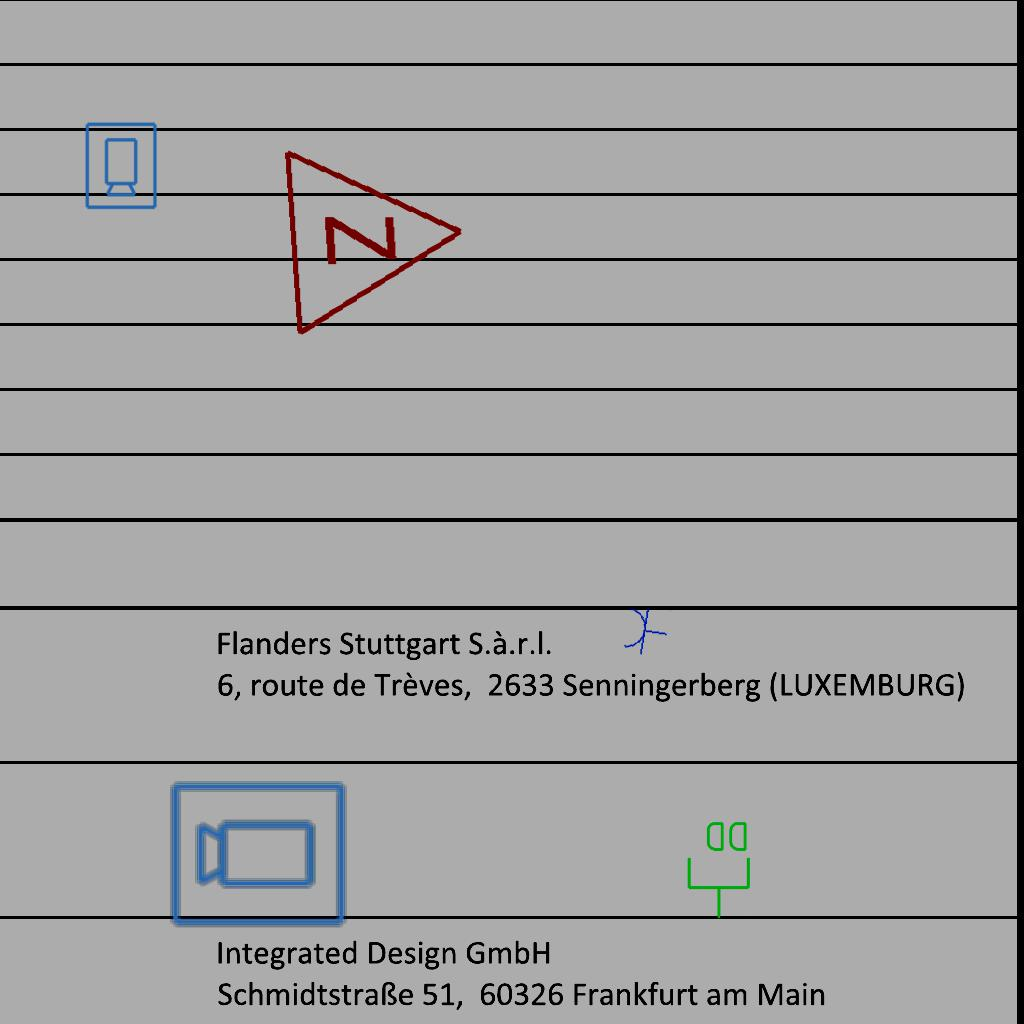Datenanschluss_zweifach: (685, 818, 754, 921)
KFO_Kamera_mit_Festobjektiv: (168, 776, 350, 930), (82, 120, 159, 211)
Schukosteckdose_einfach: (620, 602, 672, 659)
Zimmersignalleuchte: (269, 130, 483, 340)
